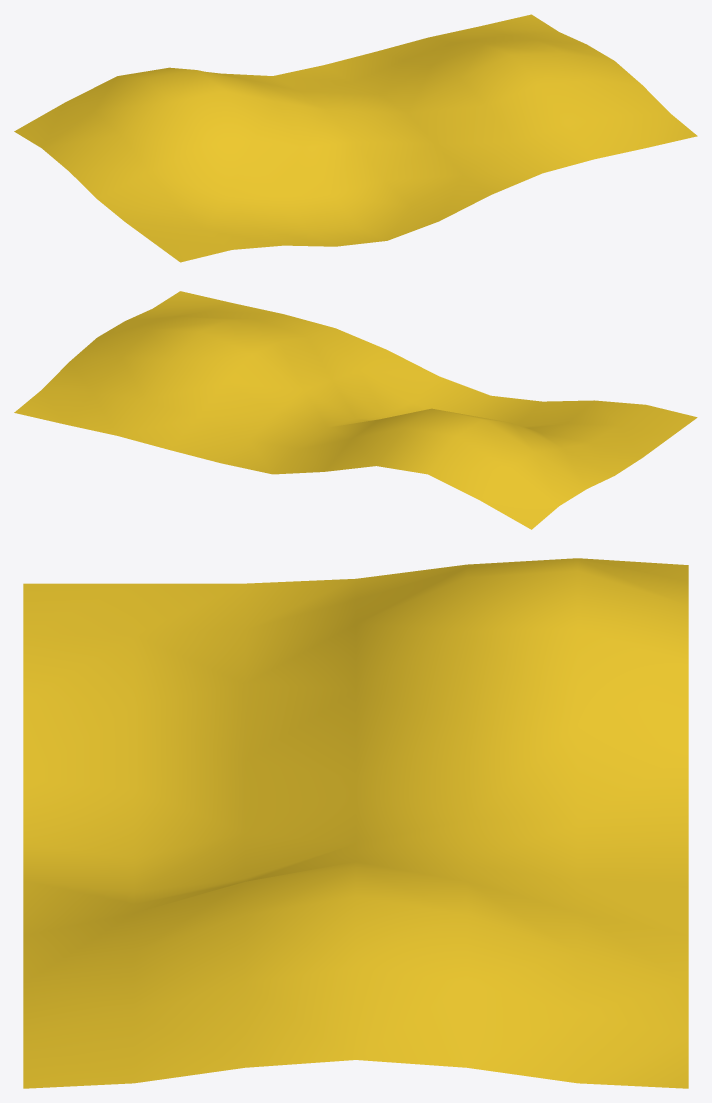
File: Village_Dust_A.fbx
The picture shows the model from 3 angles, top to bottom: view 1: azimuth 30°, elevation 25°; view 2: azimuth 150°, elevation 25°; view 3: azimuth 270°, elevation 25°; orthographic projection. The views are drawn at different scales.
Visible parts, largest first — view 1: Plane.034; view 2: Plane.034; view 3: Plane.034.
Part boxes in pixels (x1,y1,x2,y2): Plane.034: [14, 14, 697, 262]; Plane.034: [14, 291, 697, 529]; Plane.034: [23, 558, 688, 1088].
Size of the model in its own units: 359 by 61.65 by 200.
